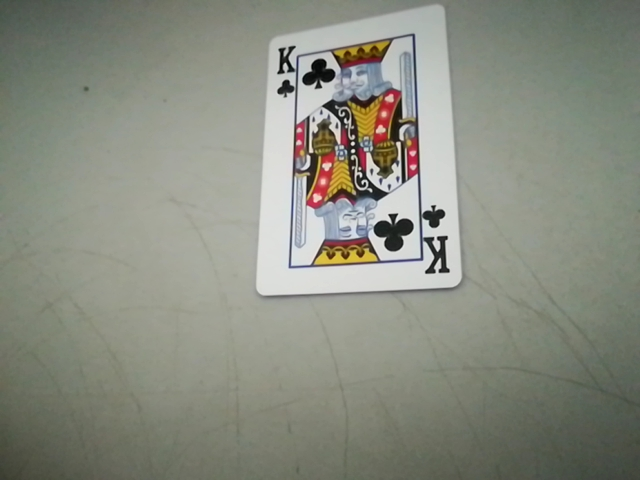mh k: (412, 204, 452, 277), (271, 33, 296, 100)
